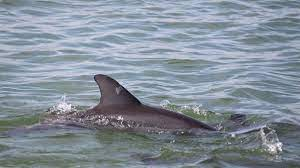fin: (38, 70, 247, 154)
